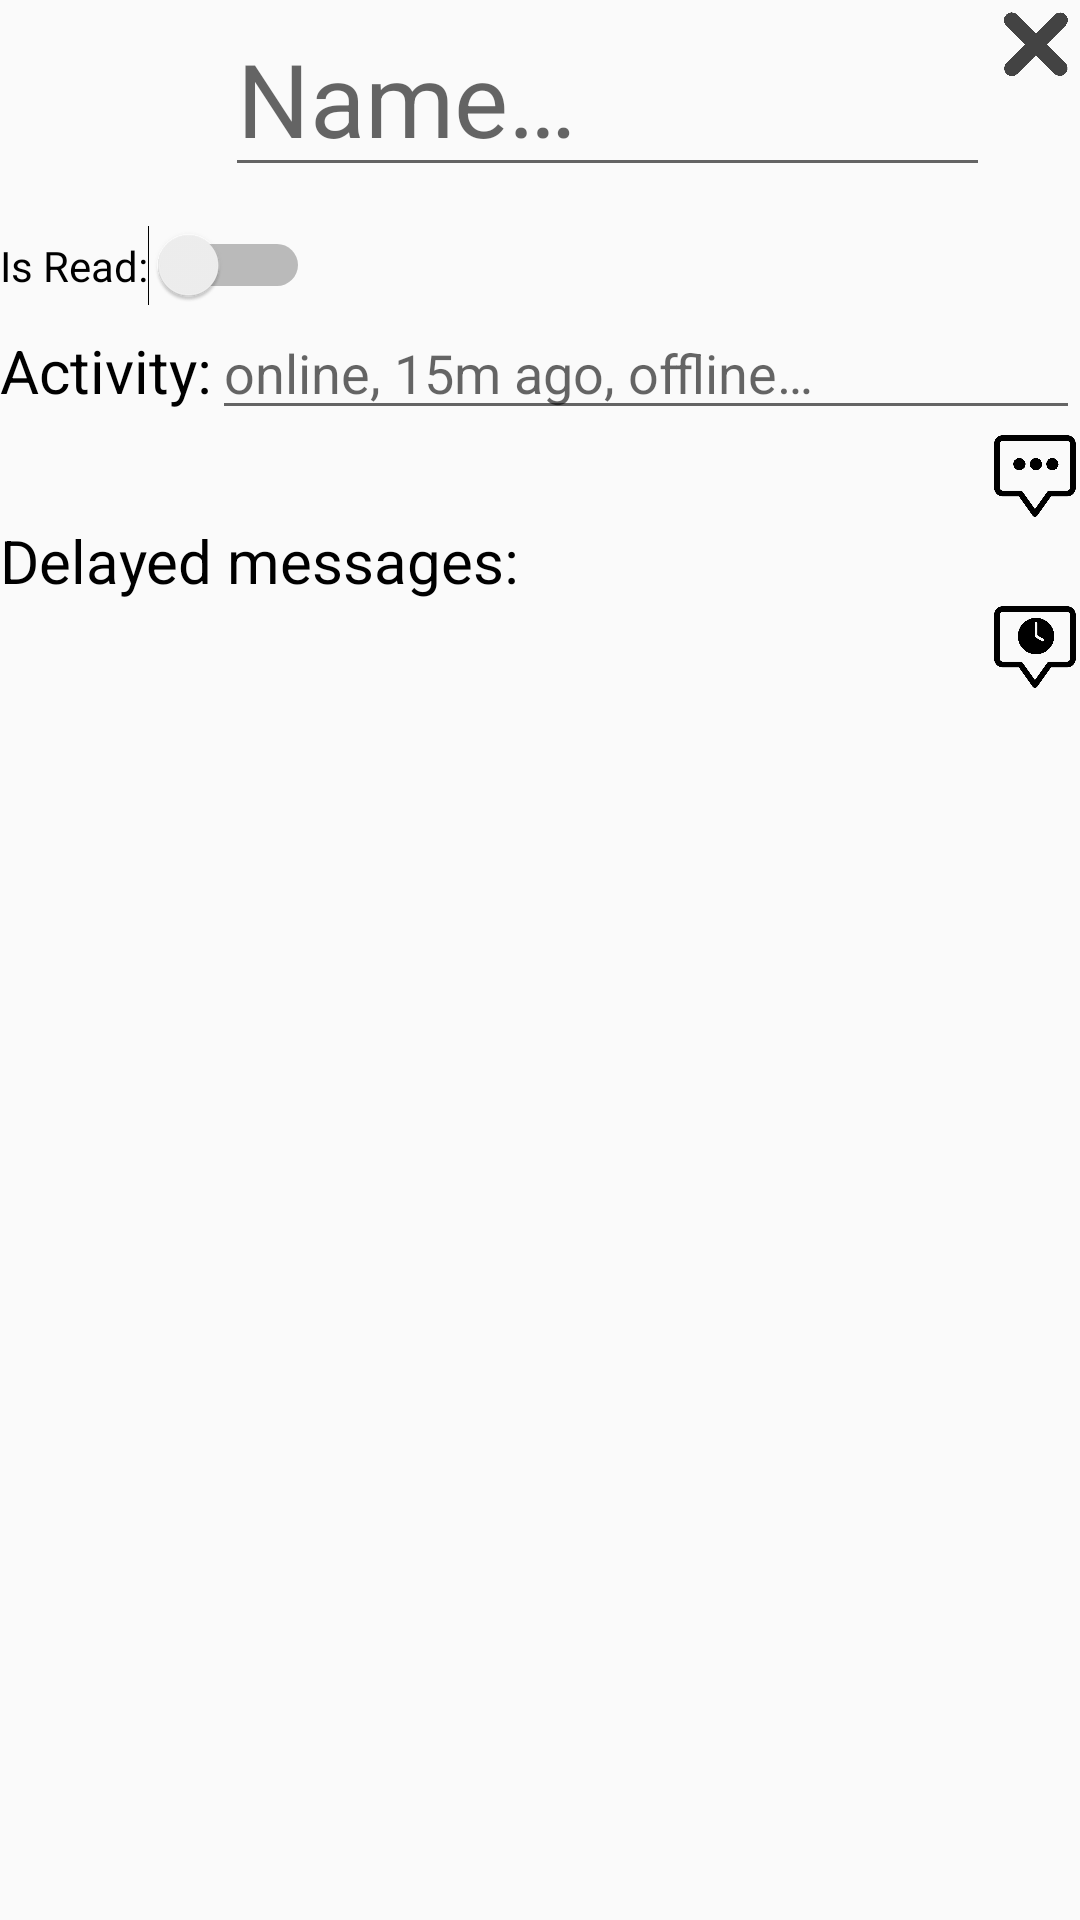

Screen size 1080 x 1920. Icon name, then its center in pixels as point (x, y):
newchat: point (1035, 476)
newdelay: point (1035, 647)
